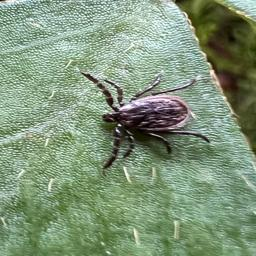Ixodes scapularis: (80, 73, 204, 171)
